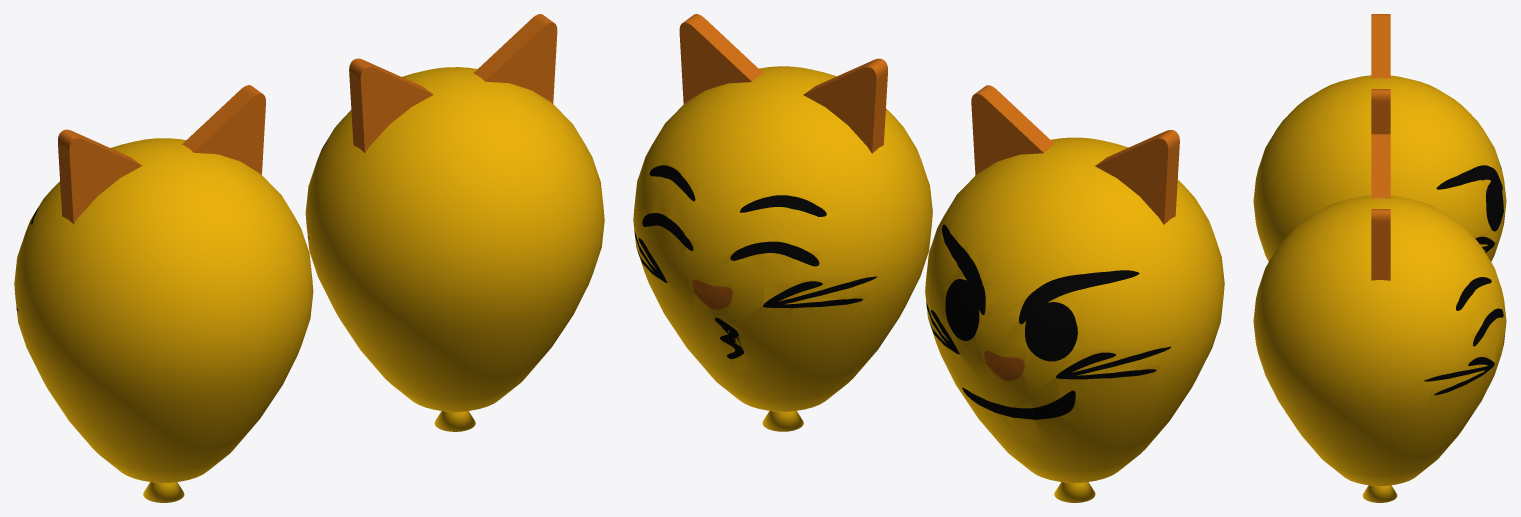
File: BallonModelExtras01.fbx
The picture shows the model from 3 angles, left to right: view 1: azimuth 30°, elevation 25°; view 2: azimuth 150°, elevation 25°; view 3: azimuth 270°, elevation 25°; orthographic projection. The views are drawn at different scales.
Visible parts, largest first — view 1: Plane.051, Plane.046; view 2: Plane.051, Plane.046; view 3: Plane.051, Plane.046.
Boxes of the visible parts, x1=… form: Plane.051: x1=305, y1=14, x2=604, y2=431; Plane.046: x1=14, y1=85, x2=313, y2=502; Plane.051: x1=633, y1=14, x2=932, y2=431; Plane.046: x1=925, y1=85, x2=1224, y2=502; Plane.051: x1=1253, y1=134, x2=1506, y2=502; Plane.046: x1=1253, y1=14, x2=1506, y2=261.
Size of the model in its own units: 4.24 by 2 by 2.81.
